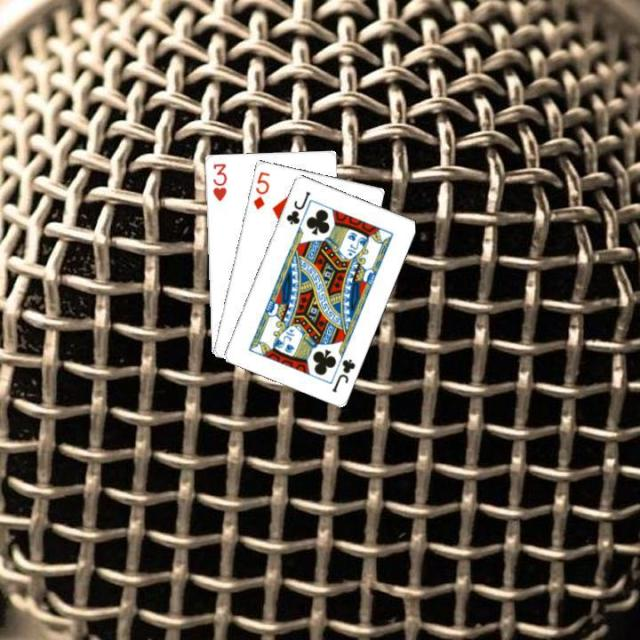3H: (209, 159, 228, 203)
5D: (249, 167, 271, 211)
JC: (327, 354, 357, 394), (282, 187, 312, 226)
